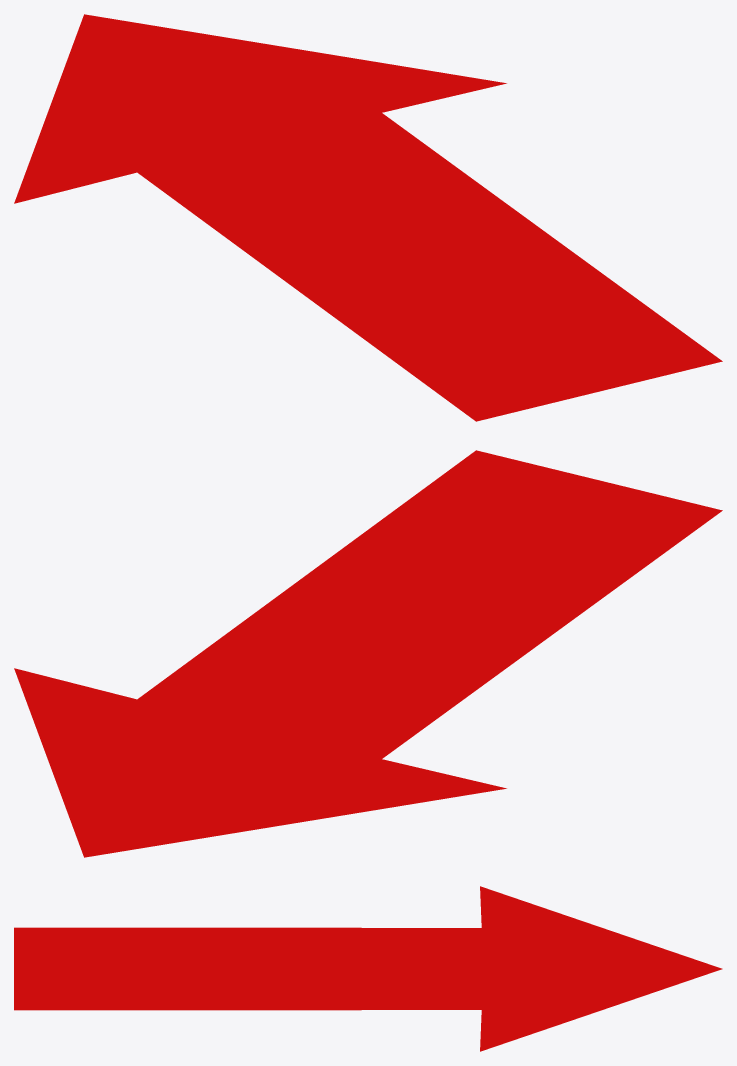
3 renders of one model, top to bottom at view 1: azimuth 30°, elevation 25°; view 2: azimuth 150°, elevation 25°; view 3: azimuth 270°, elevation 25°, orthographic. The views are drawn at different scales.
Visible parts, largest first — view 1: 箭头; view 2: 箭头; view 3: 箭头.
Part boxes in pixels (x1,y1,x2,y2): 箭头: (14, 14, 722, 421); 箭头: (14, 450, 722, 857); 箭头: (14, 886, 722, 1051).
Bounding box in the file's own units: 0.2 × 0 × 0.3617.
